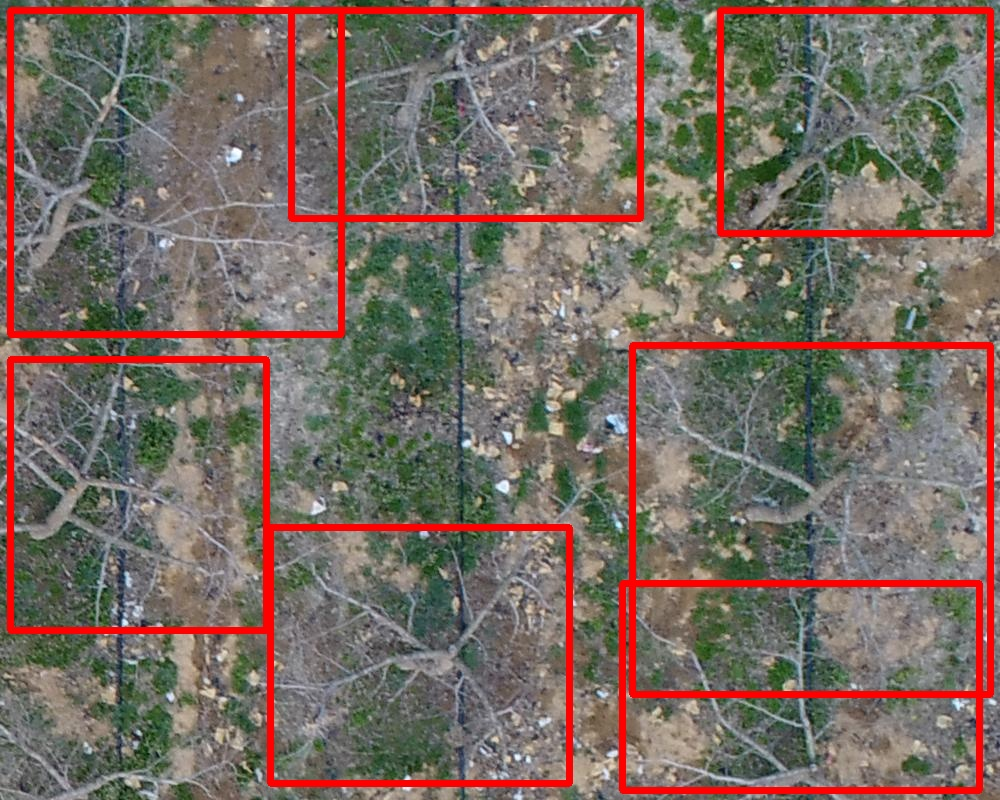apple: (632, 345, 990, 694), (10, 10, 341, 334), (270, 527, 569, 783), (622, 583, 979, 790), (291, 10, 640, 218), (10, 359, 266, 630), (720, 10, 990, 233)
